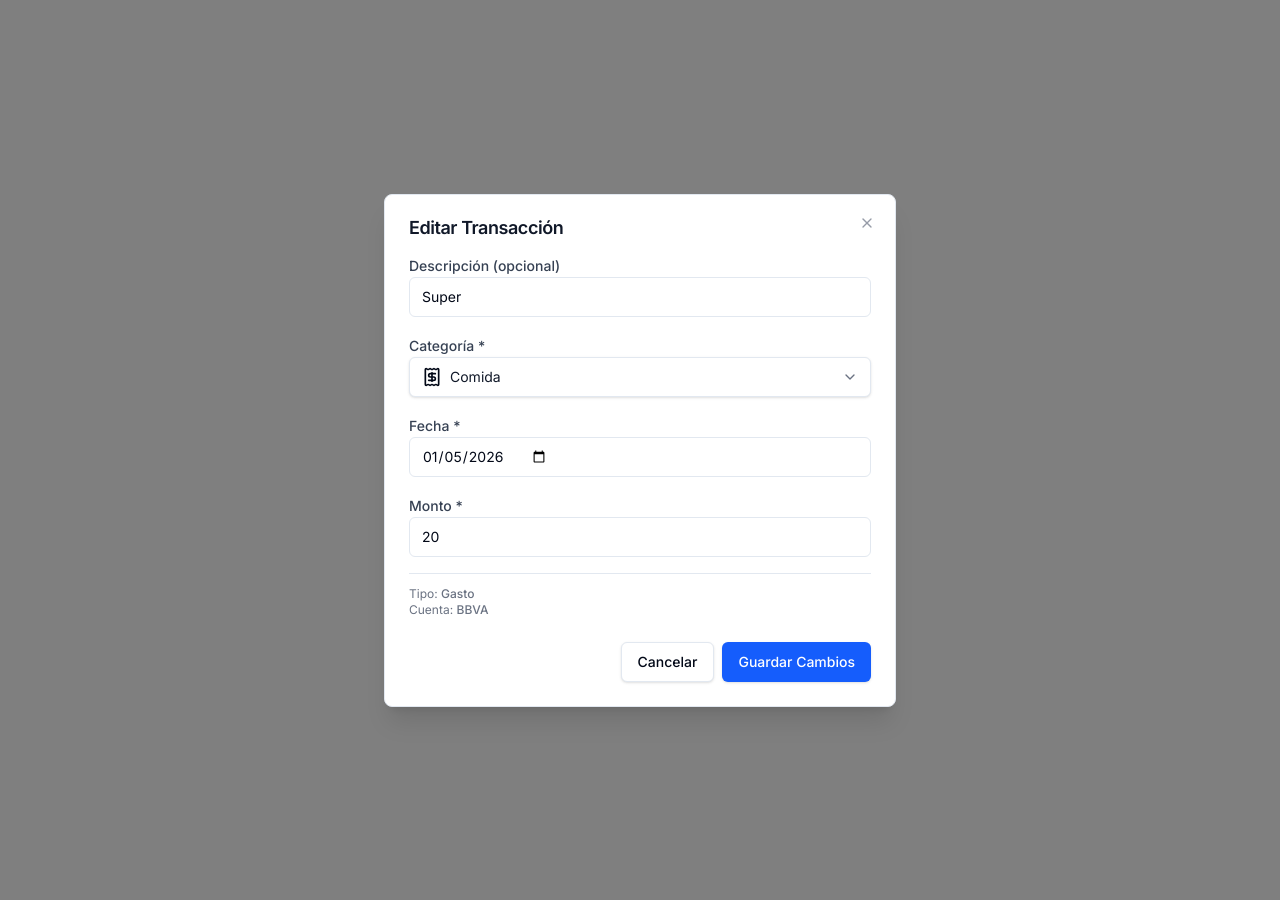
Test: EditTransactionModal › cambiar el monto muestra la advertencia de impacto en el balance
This screenshot has width=1280, height=900.
Replace the text in the number field showing "20" with "30". click: (640, 536)
box: top-left (409, 516), bottom-right (871, 556)
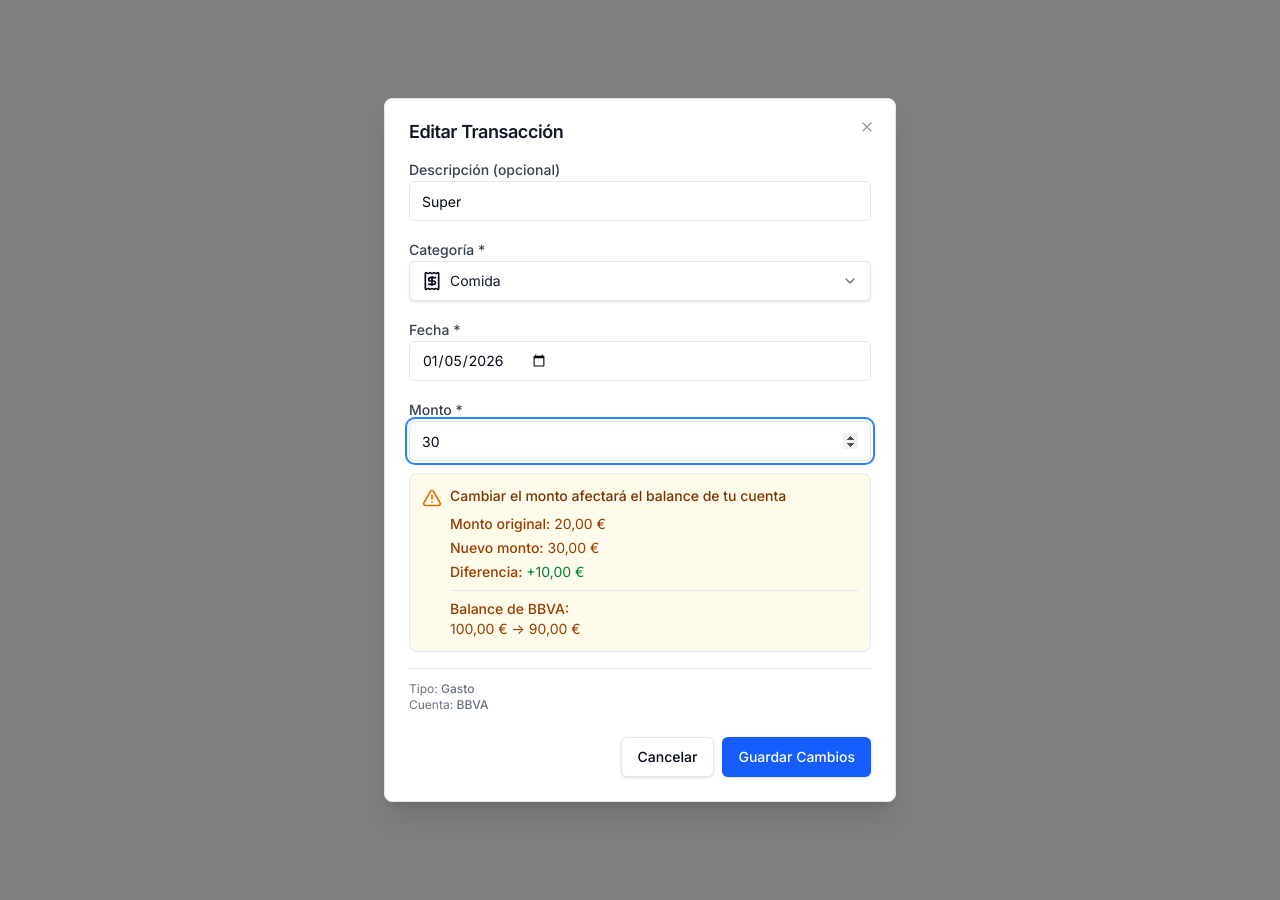
Check: the text "Cambiar el monto afectará el balance de tu cuenta" is shown, box top-left (450, 487), bottom-right (786, 504)
